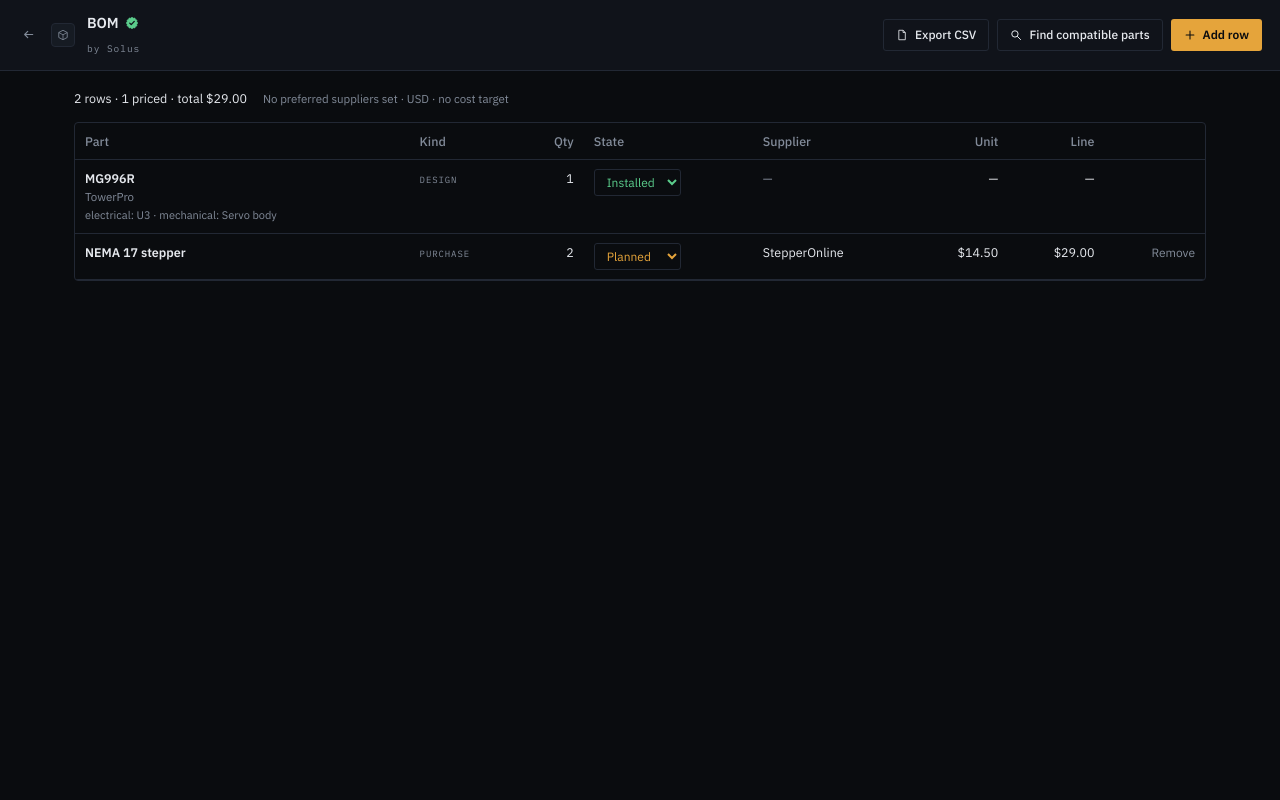
Scenario: BomScreen › adds a planned purchase and a raw material through the dialog
Click the button "Add row": (1216, 35) [1171, 19, 1262, 51]
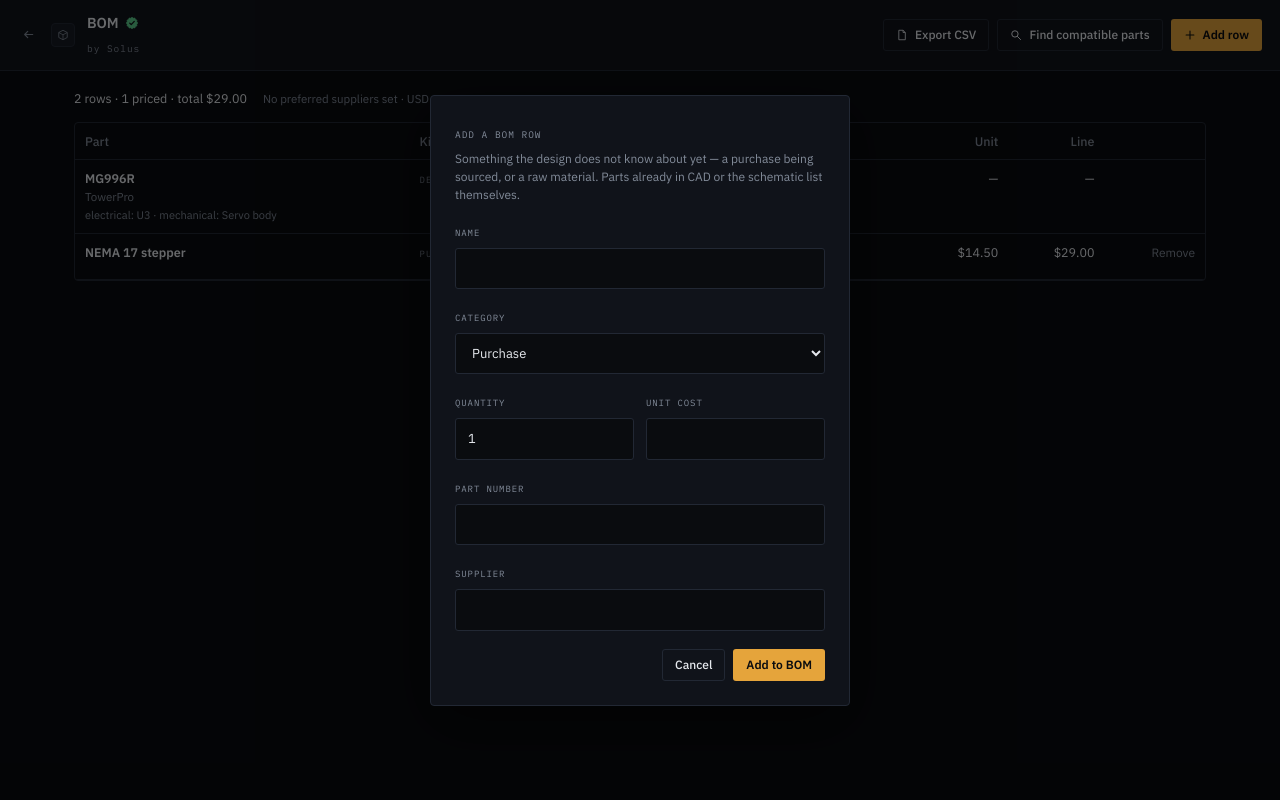
In the field labelled "Name": (640, 268) [455, 248, 825, 289], type "6061-T6 plate 3 mm"
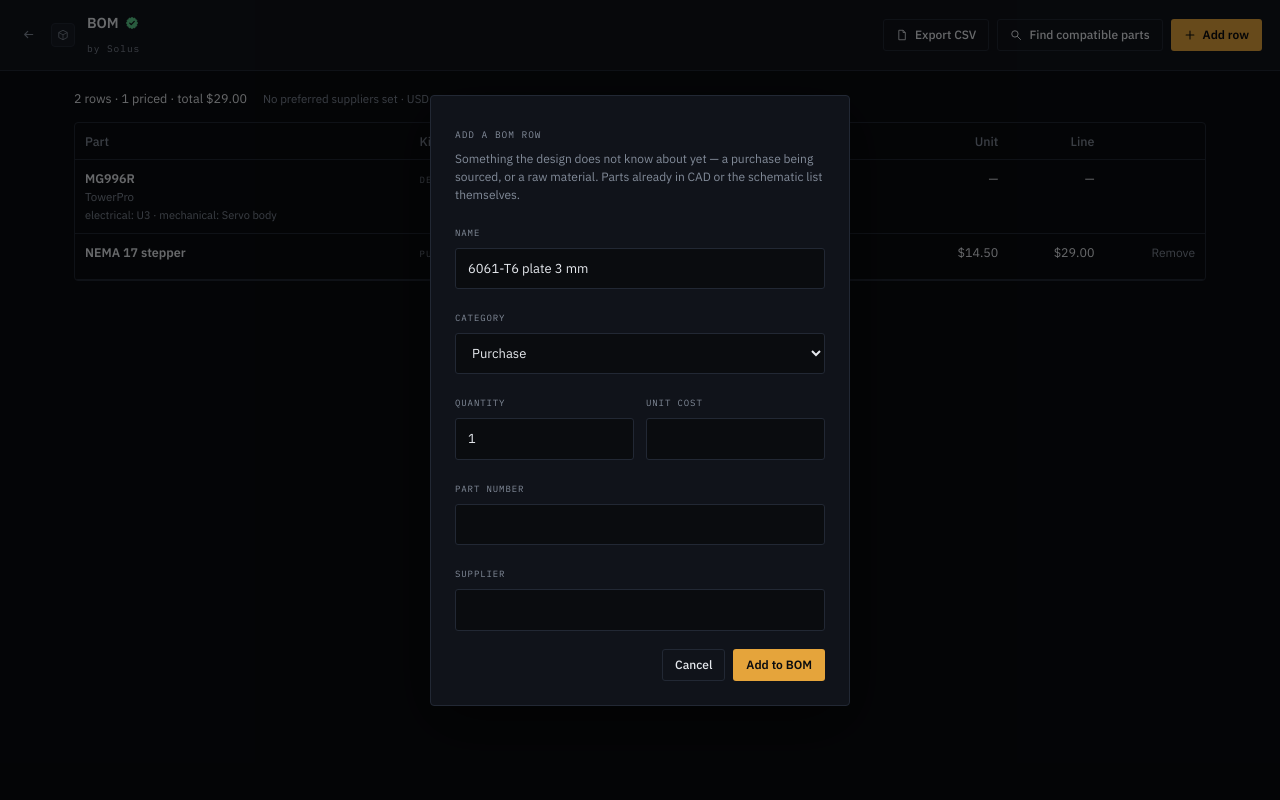
Select "Raw material" in the dropdown labelled "Category": (640, 354) [455, 333, 825, 374]
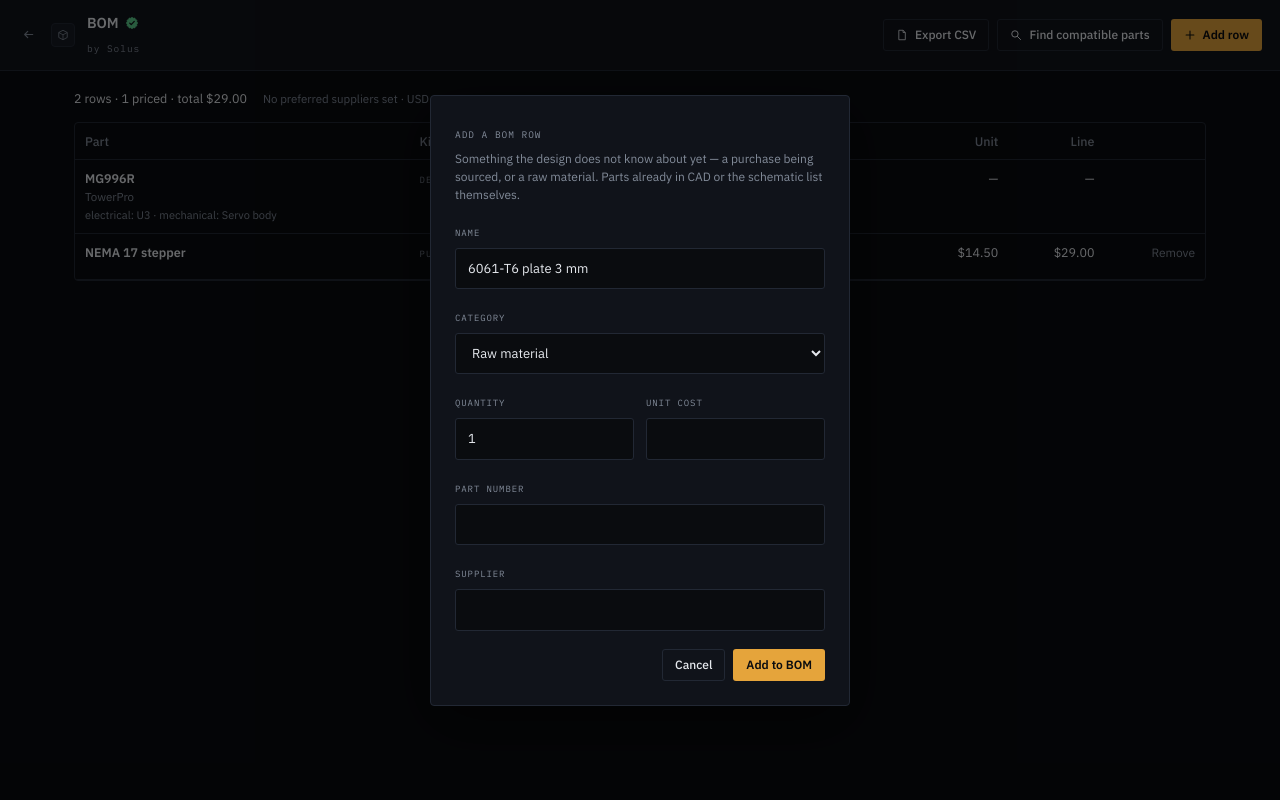
Replace the text in the field labelled "Quantity" with "4": (544, 439) [455, 418, 634, 460]
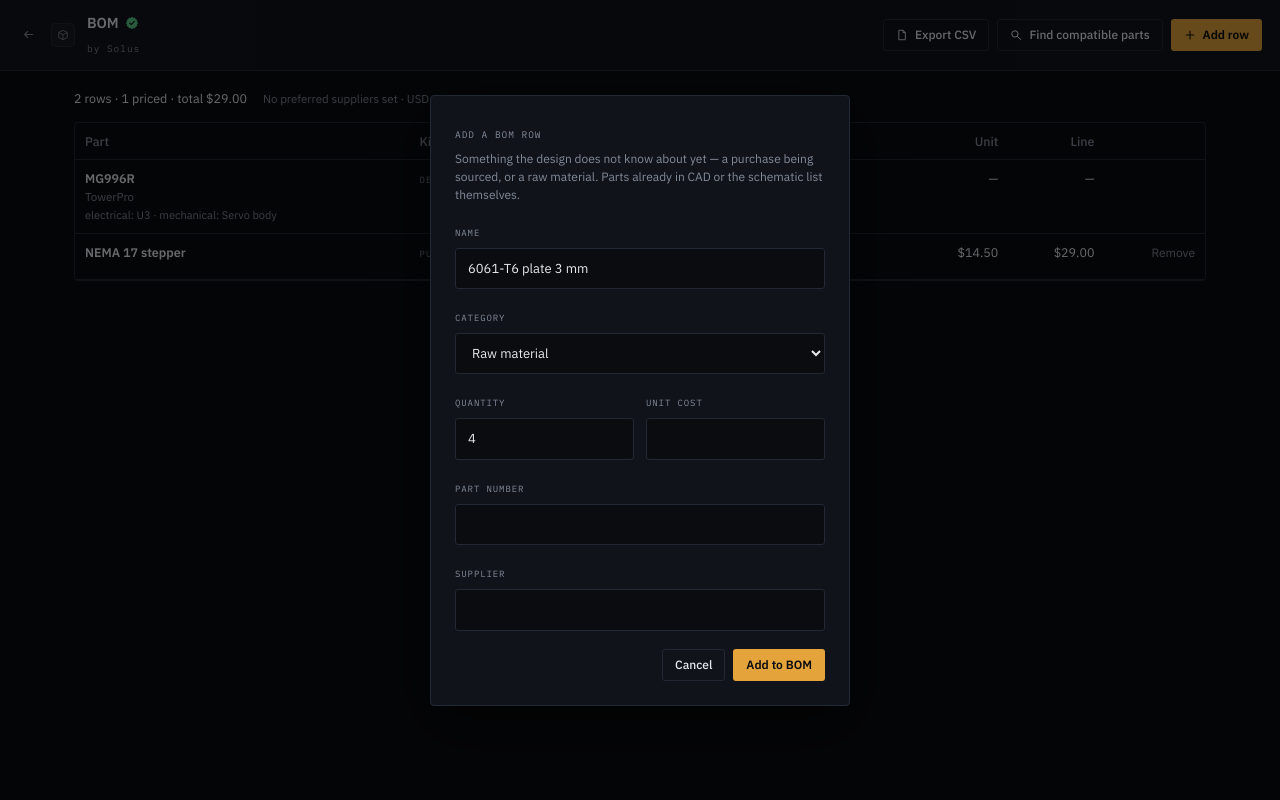
In the field labelled "Unit cost": (736, 439) [646, 418, 825, 460], type "3.5"
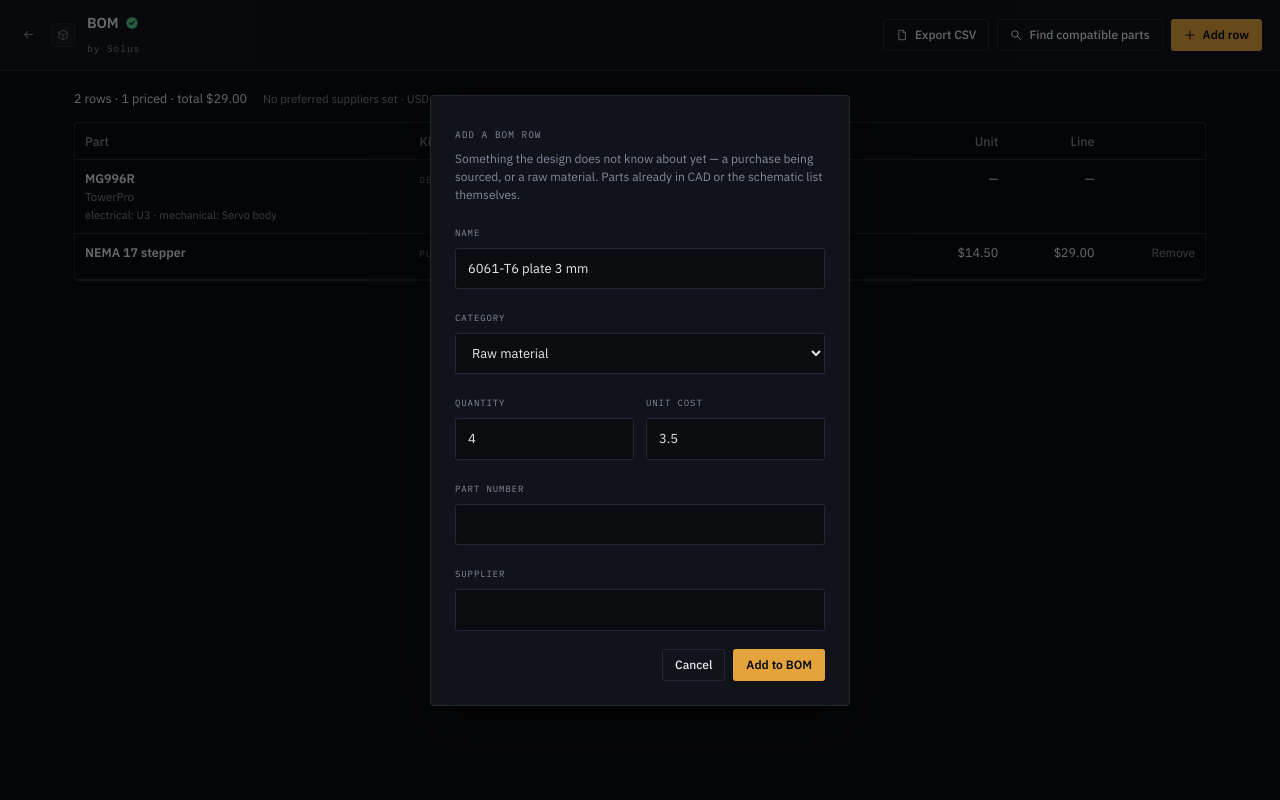
Click the button "Add to BOM": (779, 664) [733, 648, 825, 680]
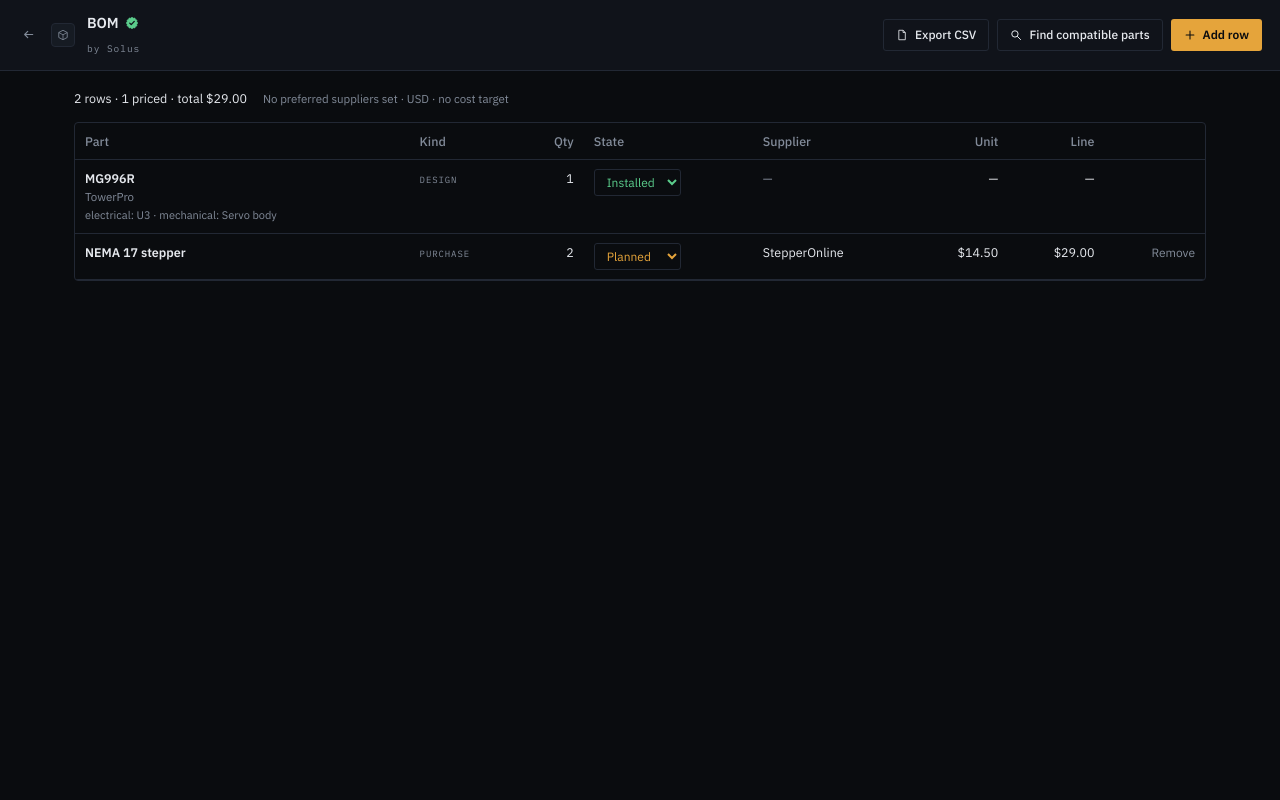
Result: the dialog is gone
